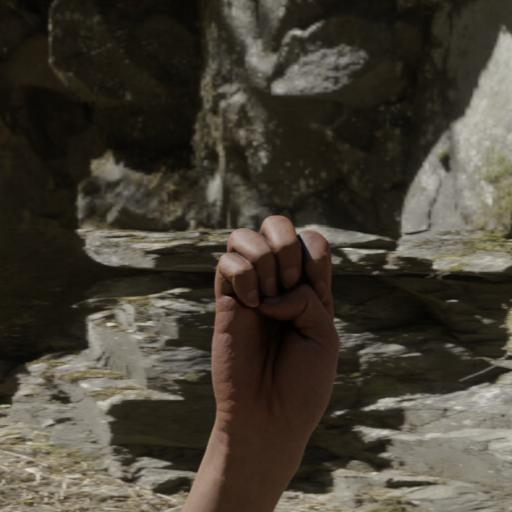E: (187, 206, 350, 512)
